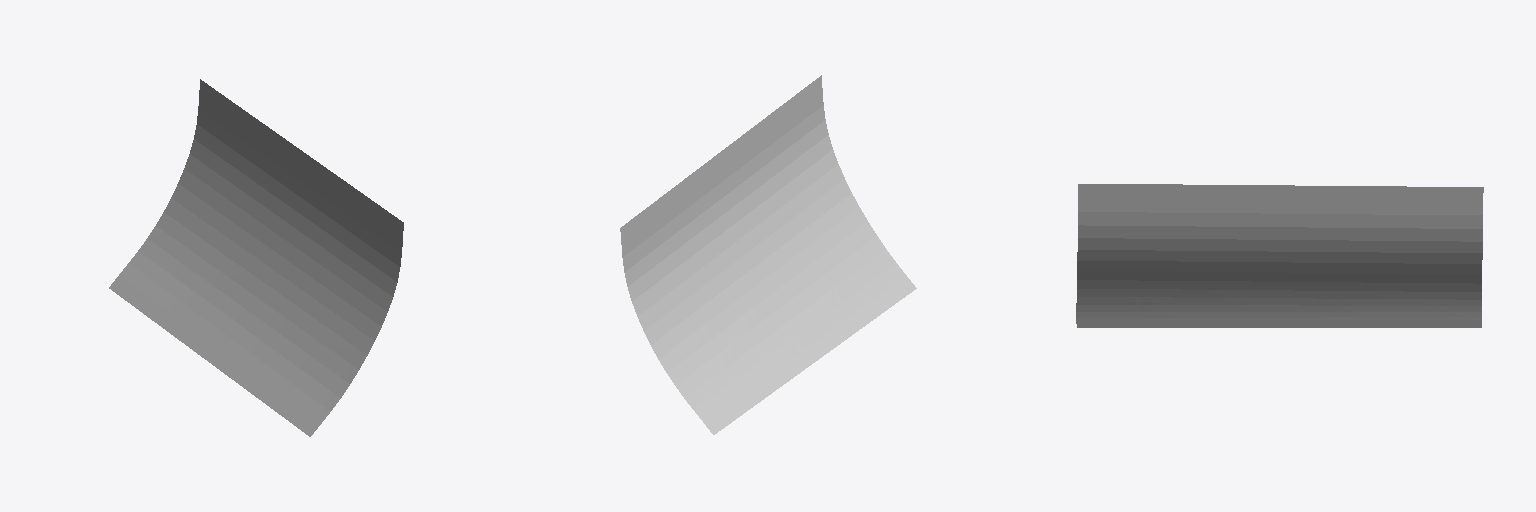
Rendered from page0007.obj.
3 views of the same model, side by side, from view 1: azimuth 30°, elevation 25°; view 2: azimuth 150°, elevation 25°; view 3: azimuth 270°, elevation 25° (orthographic).
Size of the model in its own units: 135 by 260 by 503.